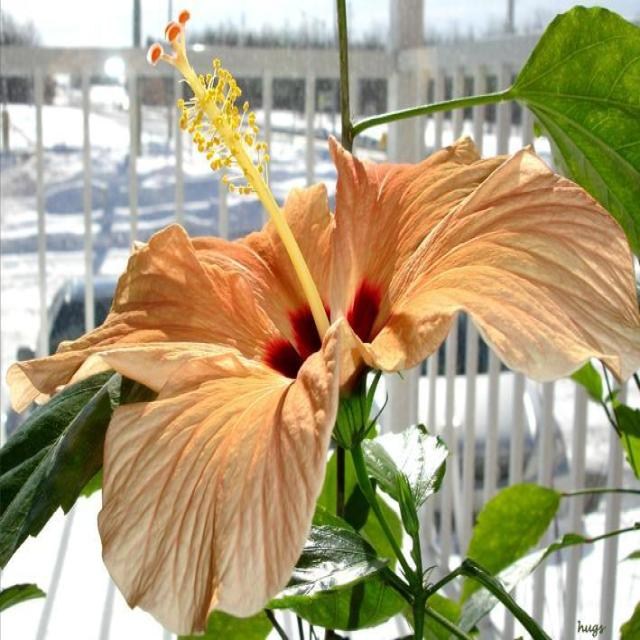hibiscus: (31, 11, 640, 640)
